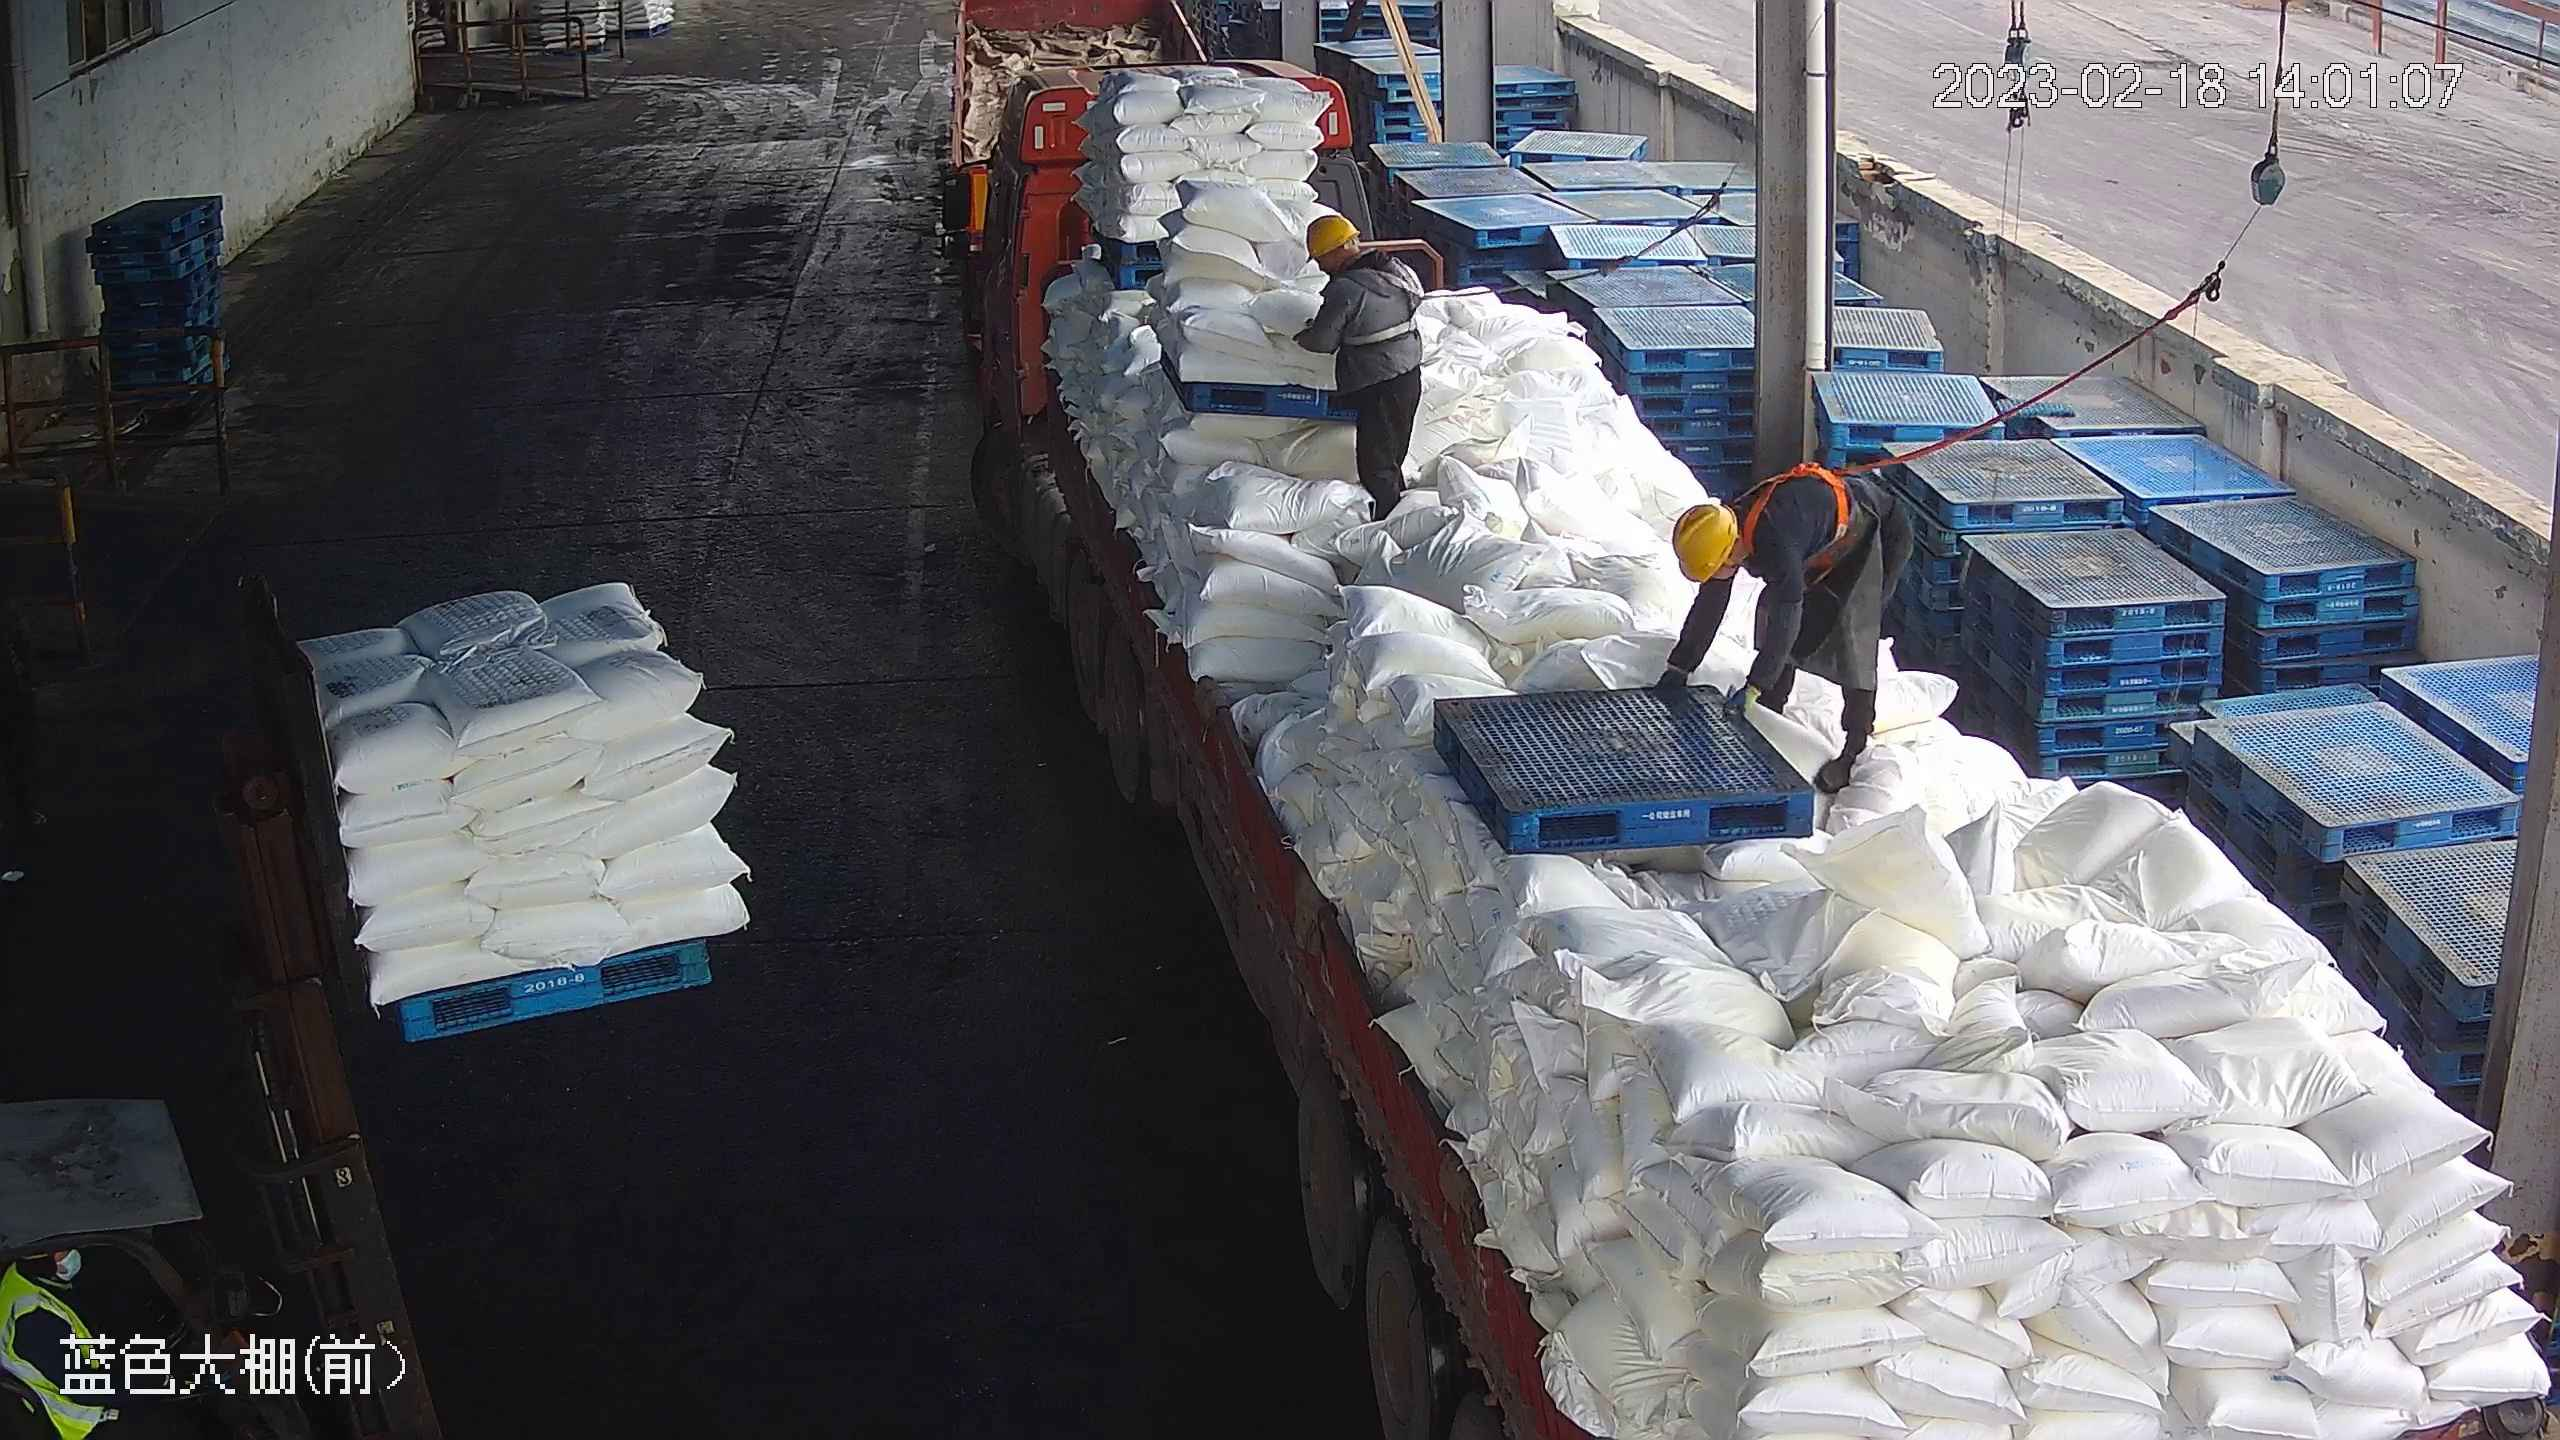belt: (1739, 454, 1857, 566), (1346, 249, 1427, 344)
head: (1670, 483, 1805, 594), (1306, 213, 1409, 301)
helmet: (1669, 500, 1739, 588), (1304, 213, 1360, 261)
people: (1656, 463, 1909, 816), (1289, 211, 1427, 523)
truck: (985, 55, 2558, 1440)
